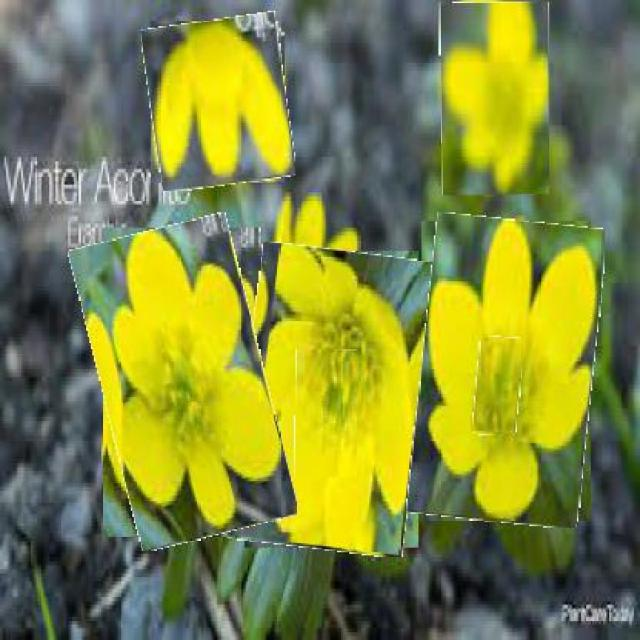Flower: (86, 221, 282, 545), (237, 247, 429, 555), (414, 217, 600, 526), (146, 16, 292, 189), (439, 3, 550, 197), (295, 350, 359, 479), (475, 337, 522, 437)
